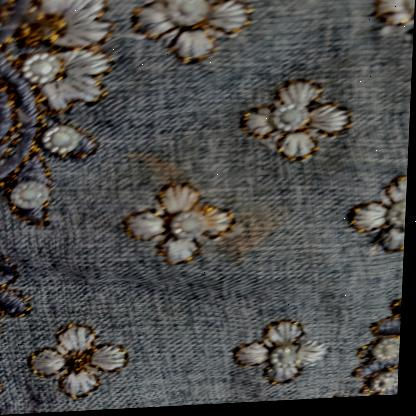spot: (125, 147, 315, 274)
